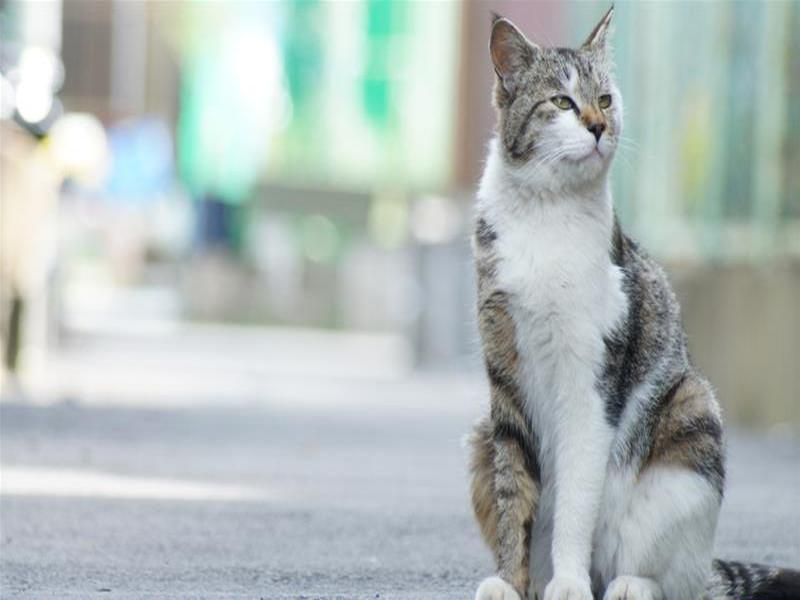cat: (466, 5, 736, 599)
